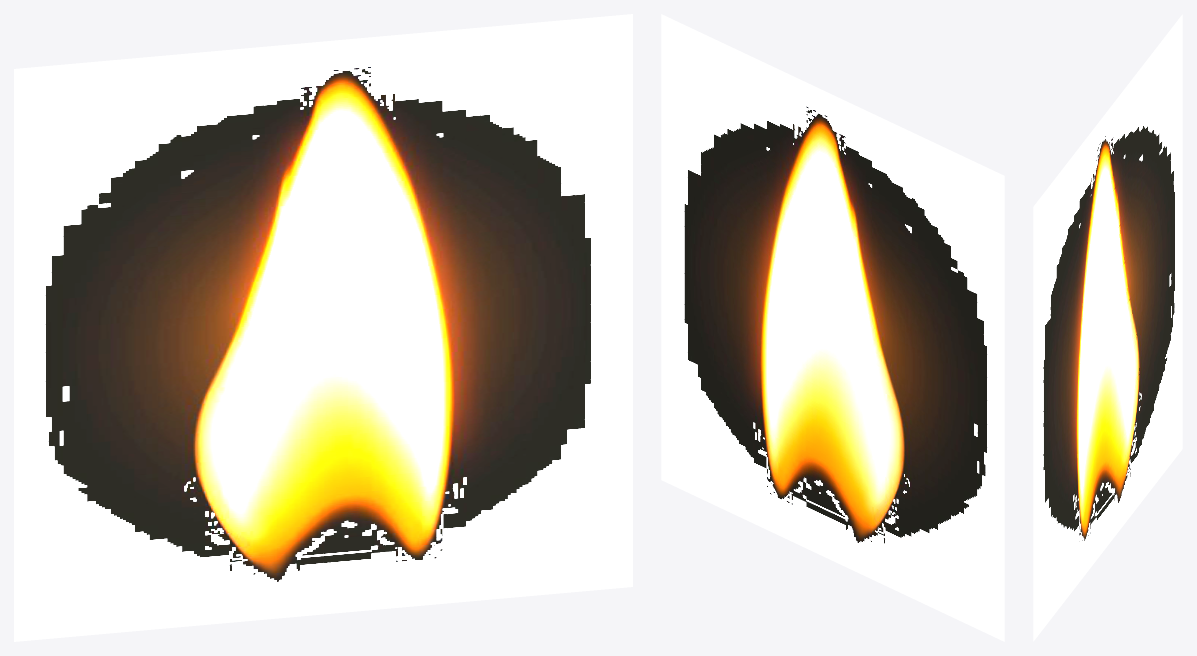
3 renders of one model, left to right at view 1: azimuth 30°, elevation 25°; view 2: azimuth 150°, elevation 25°; view 3: azimuth 270°, elevation 25°, orthographic. The views are drawn at different scales.
Visible parts, largest first — view 1: _109; view 2: _109; view 3: _109.
Boxes of the visible parts, box(x1,y1,x2,y2) form: _109: box(14, 14, 632, 641); _109: box(661, 14, 1004, 641); _109: box(1033, 14, 1182, 641).
Size of the model in its own units: 10.65 by 11.21 by 3.49.
